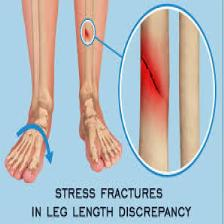stress-fracture: (74, 0, 208, 164)
